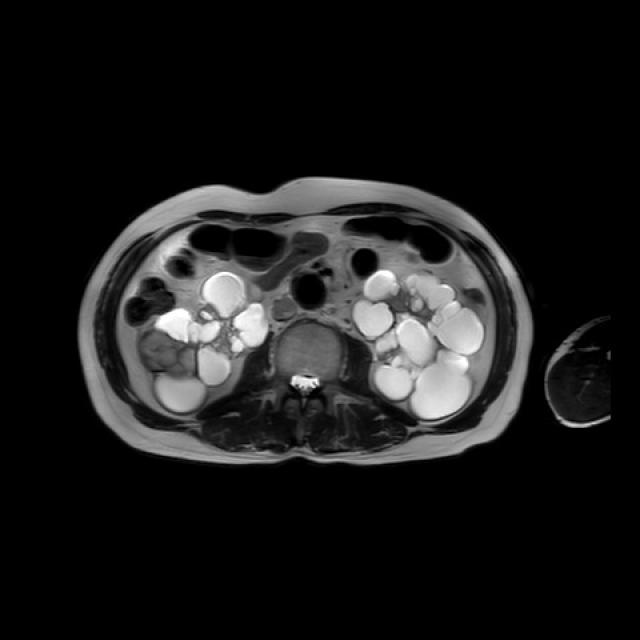sag: (138, 272, 270, 413)
sol: (355, 270, 484, 416)
